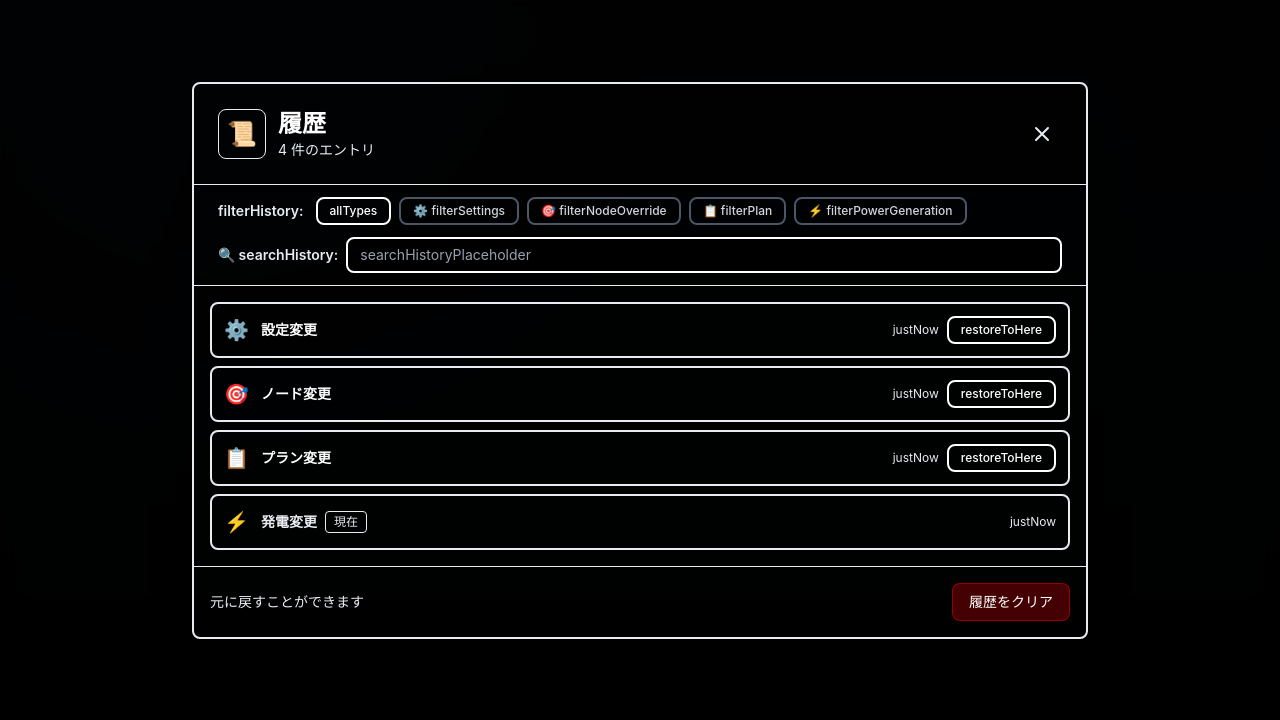
HistoryDialog › Filter Functionality › should filter nodeOverride entries
Click the button "🎯 filterNodeOverride". click: (604, 210)
box: x1=527 y1=196 x2=681 y2=224
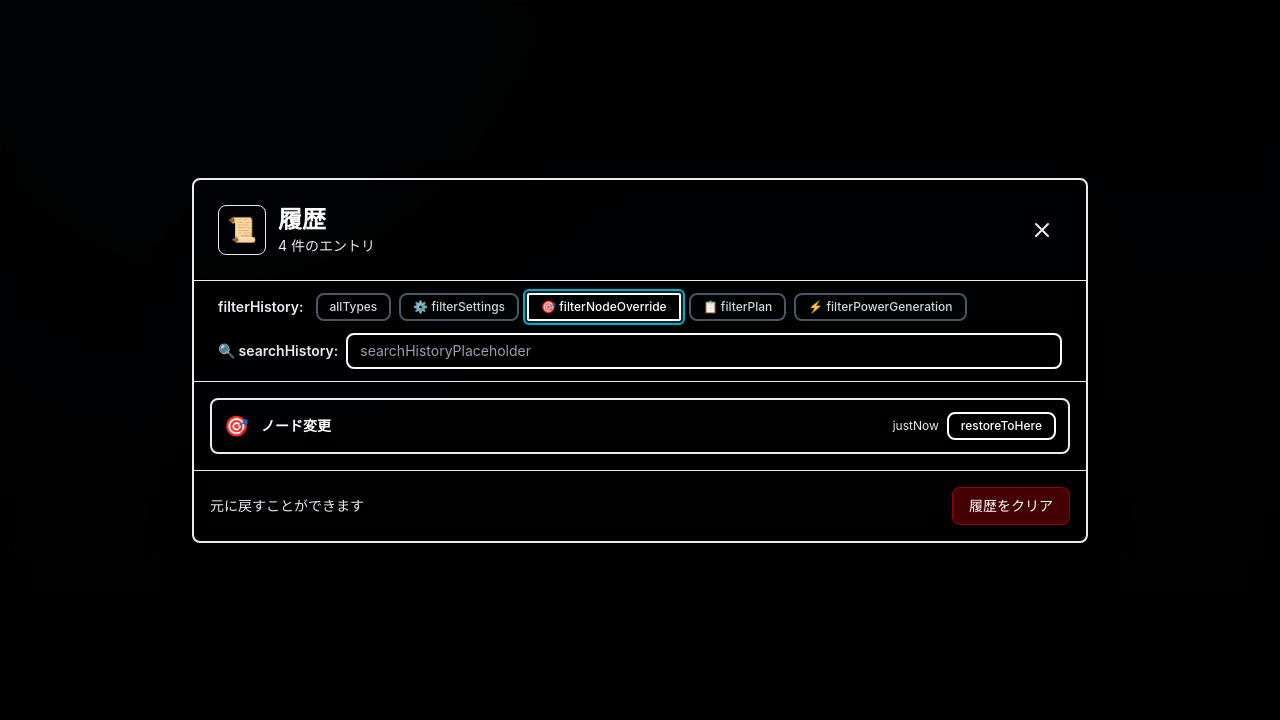
expect the text "設定変更" is gone: met
expect the text "プラン変更" is gone: met
expect the text "発電変更" is gone: met
